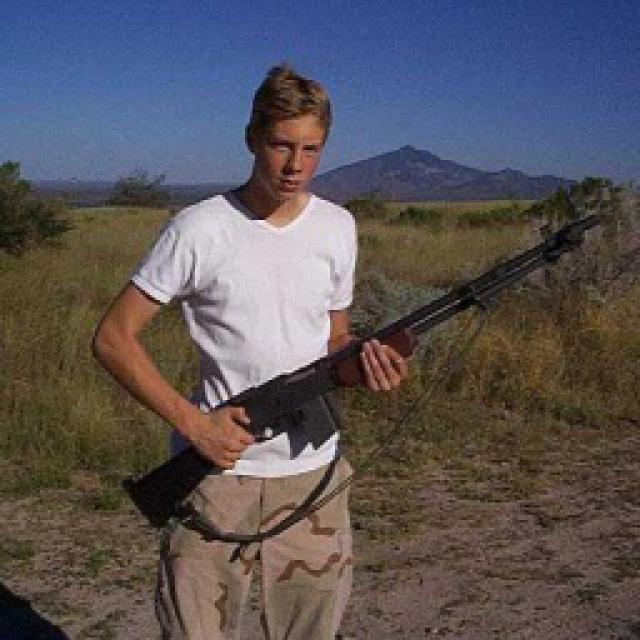long weapon: (98, 196, 629, 552)
